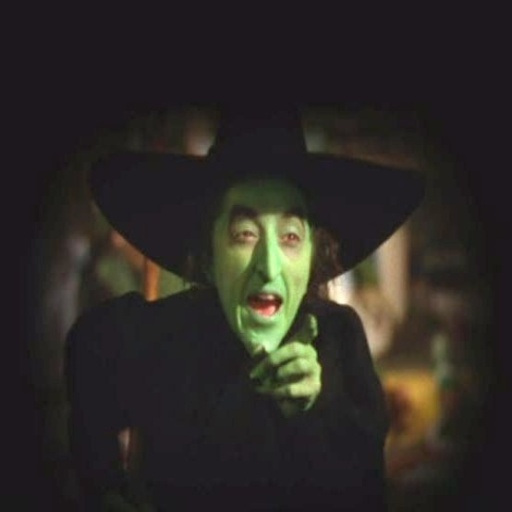hand: (263, 342, 326, 406), (96, 492, 131, 510)
